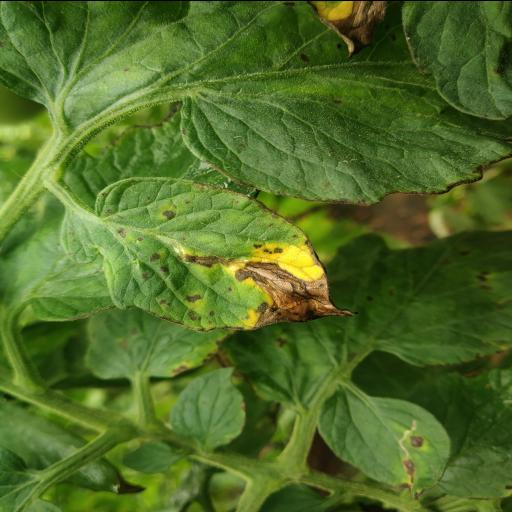Early Blight: (54, 174, 362, 334)
